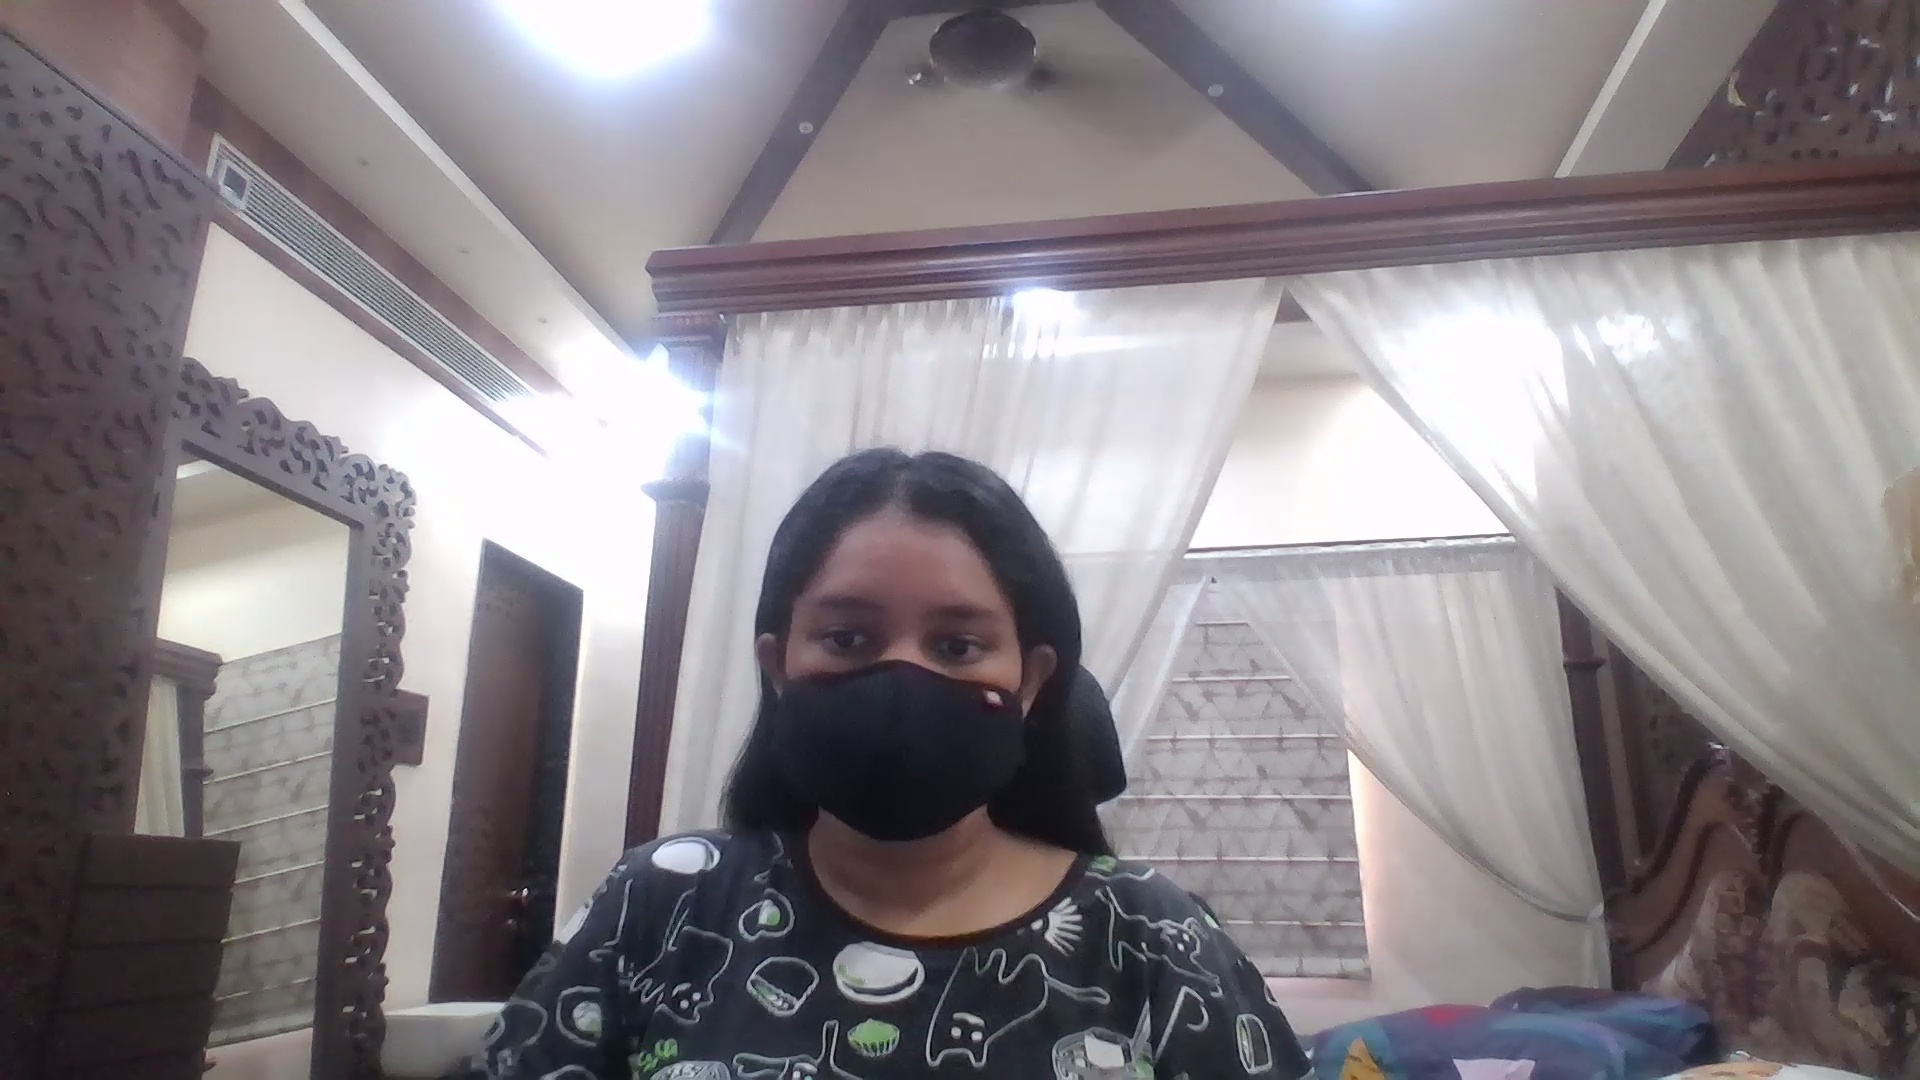Mask: (760, 663, 1042, 850)
